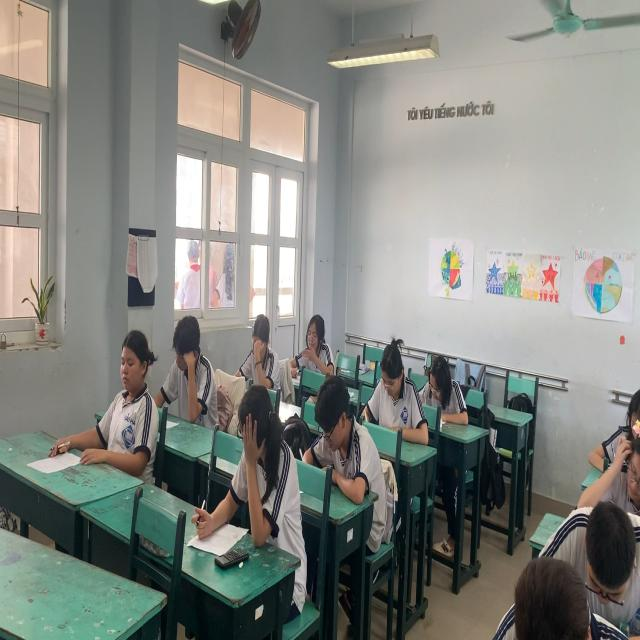cheating: (223, 376, 295, 545)
not_cheating: (79, 328, 159, 473), (299, 369, 367, 490), (371, 342, 426, 452), (414, 342, 474, 428), (161, 324, 206, 411), (293, 296, 338, 376), (246, 314, 278, 397)
